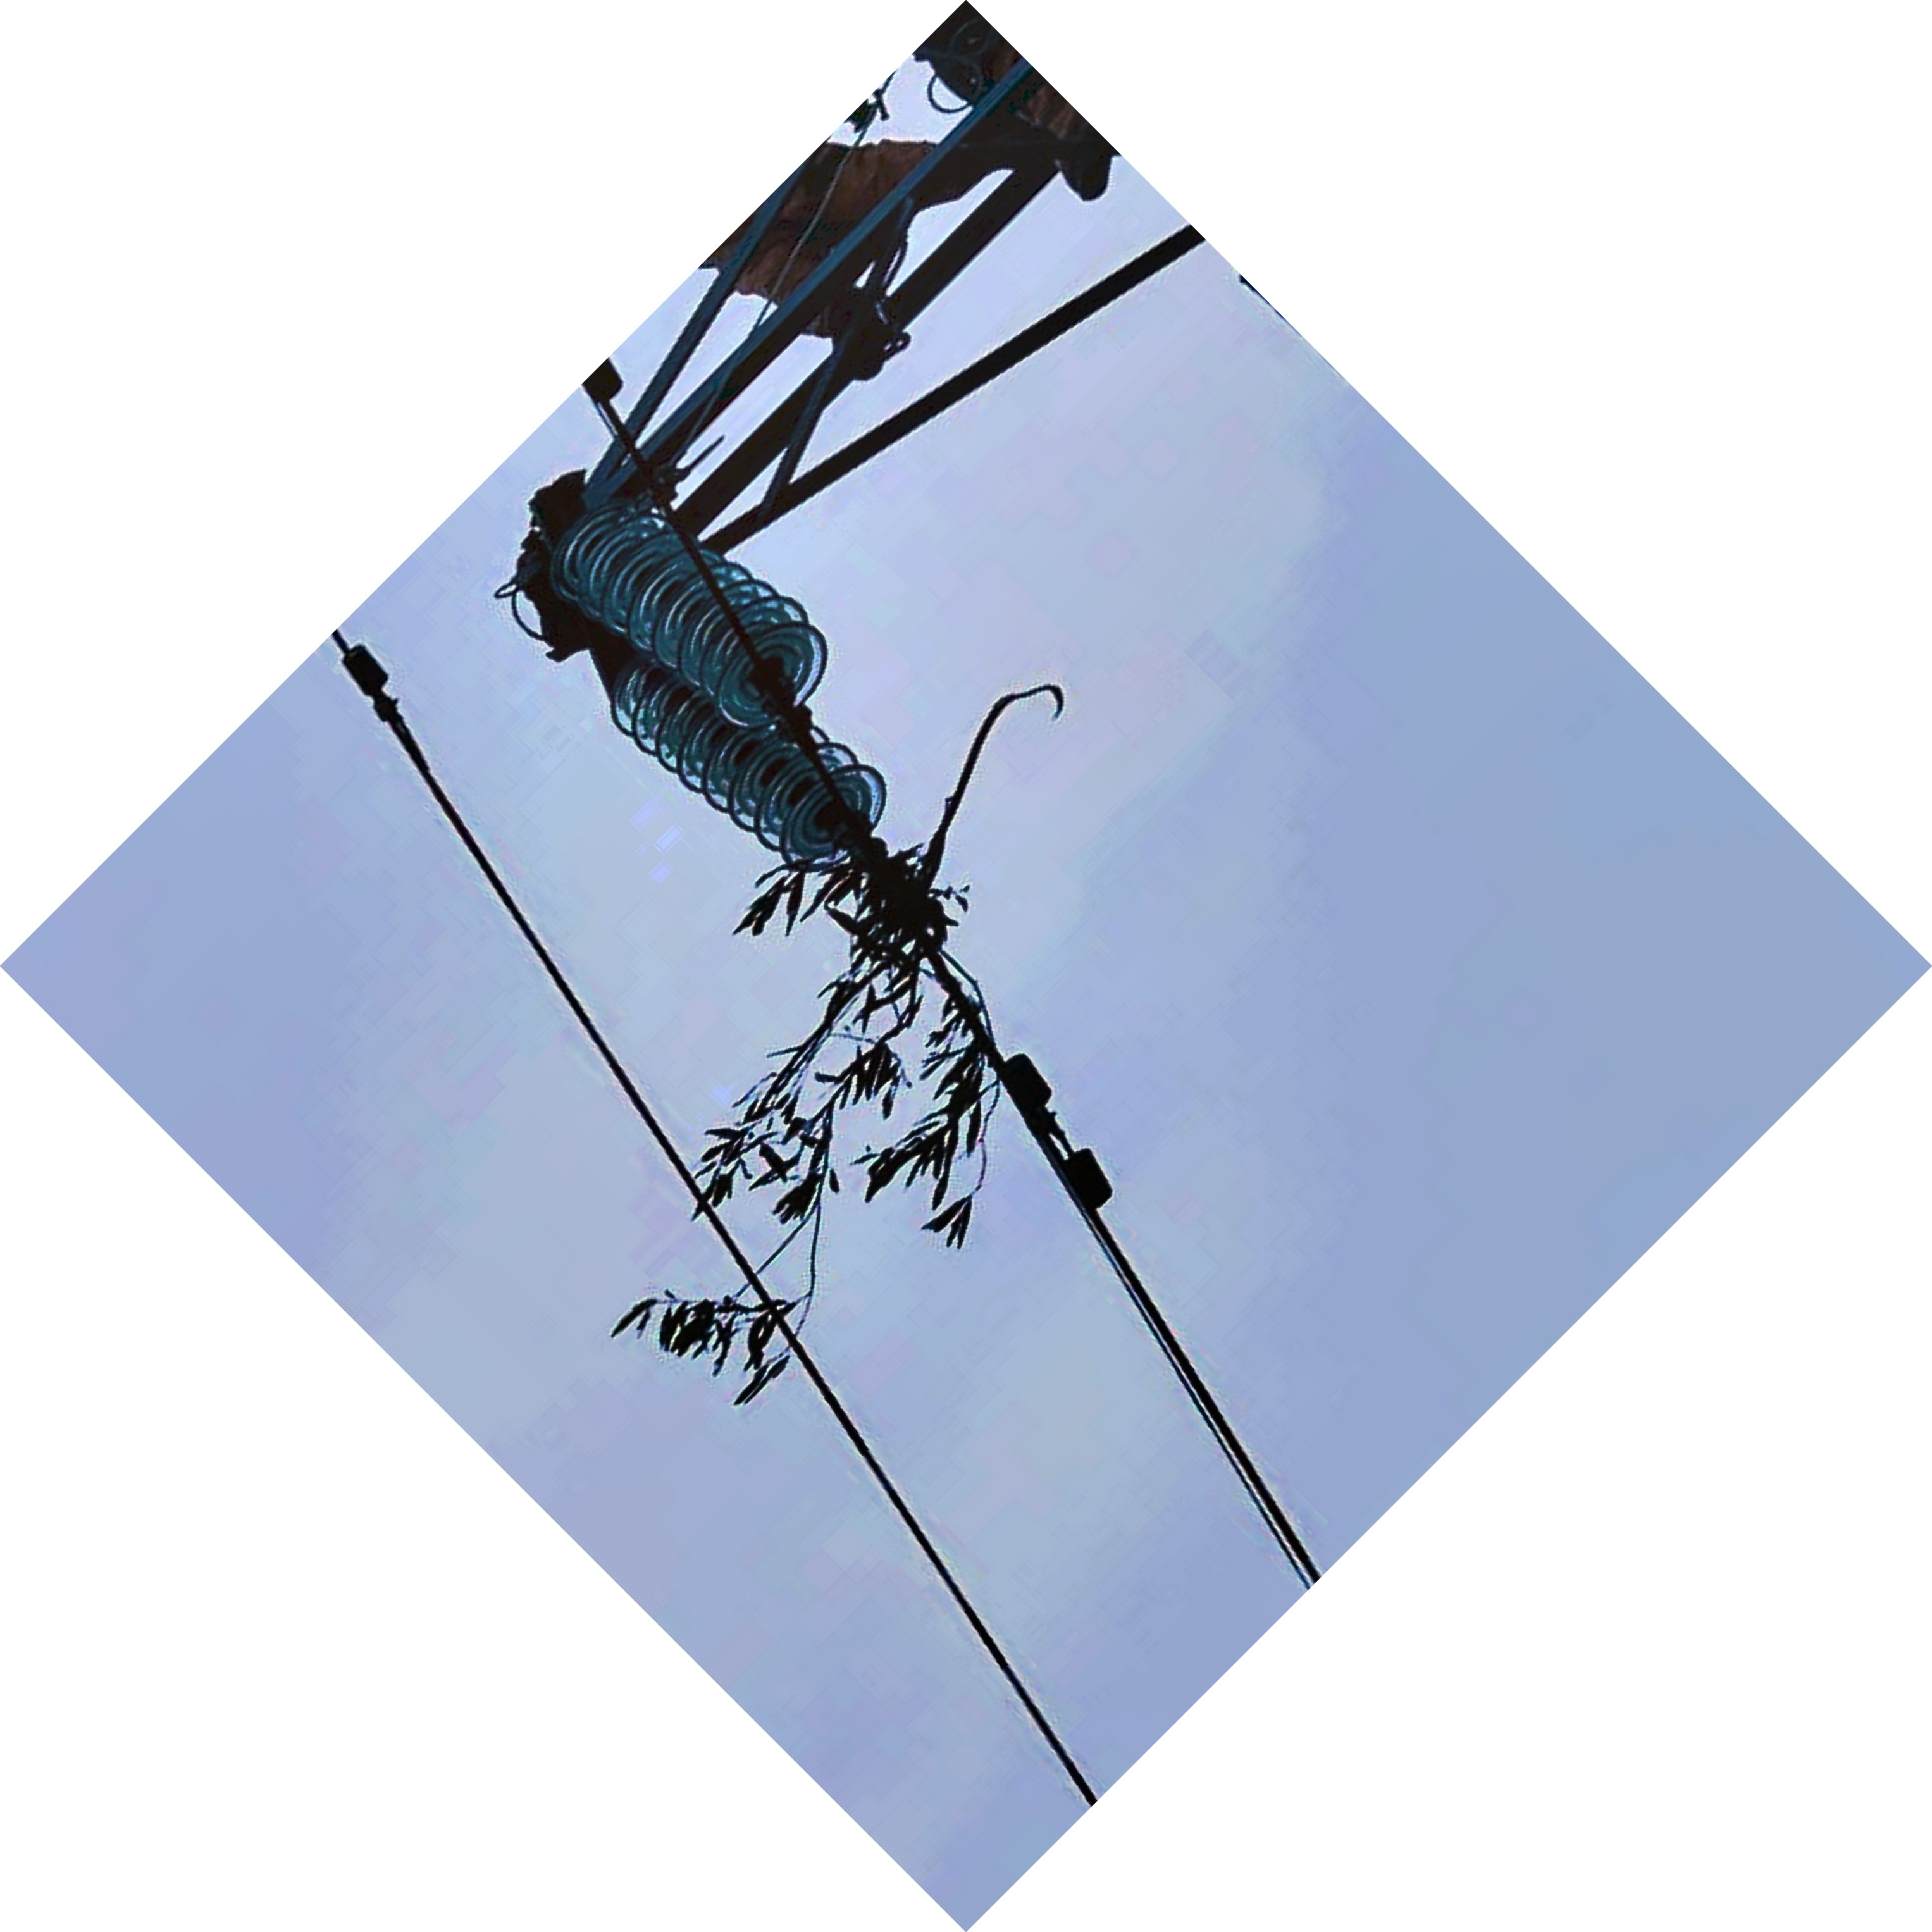wire foreign body: (679, 791, 1054, 1336)
